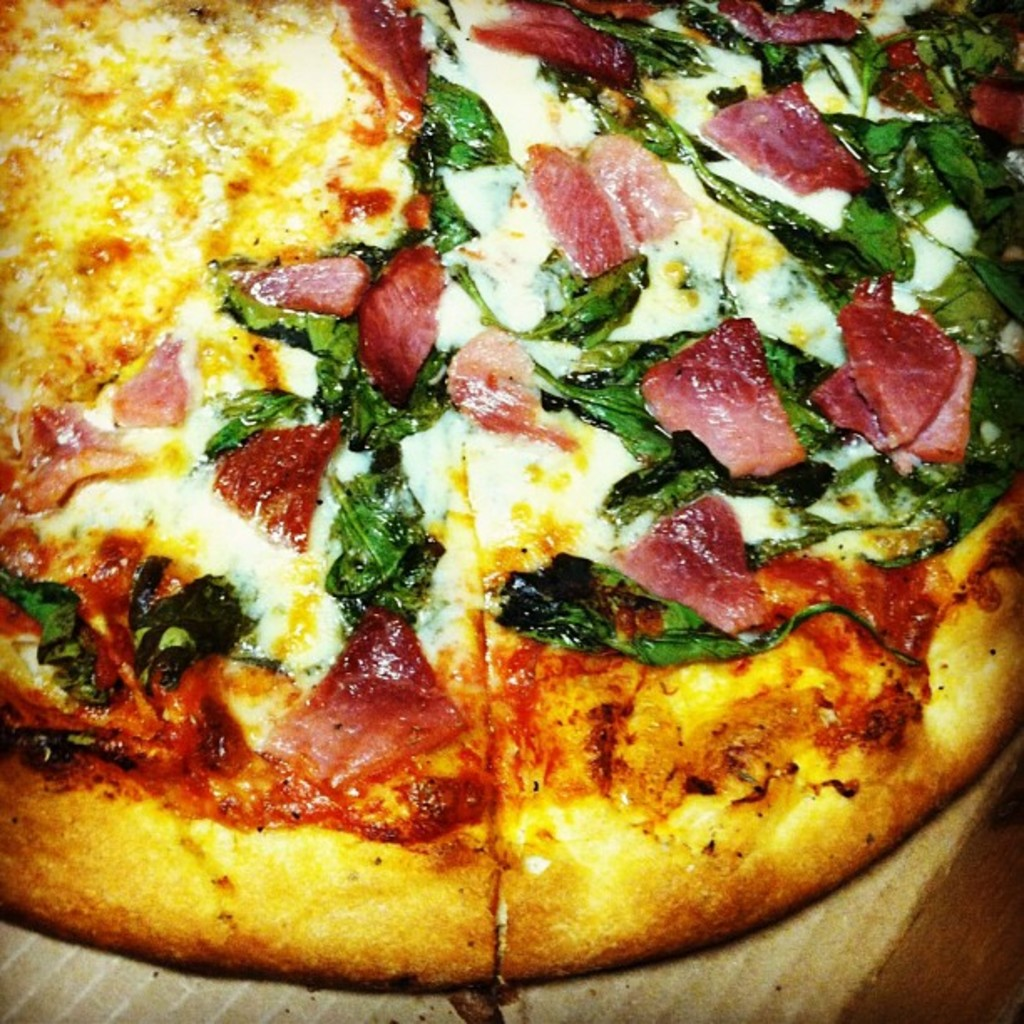Pizza: (0, 0, 1012, 1002)
